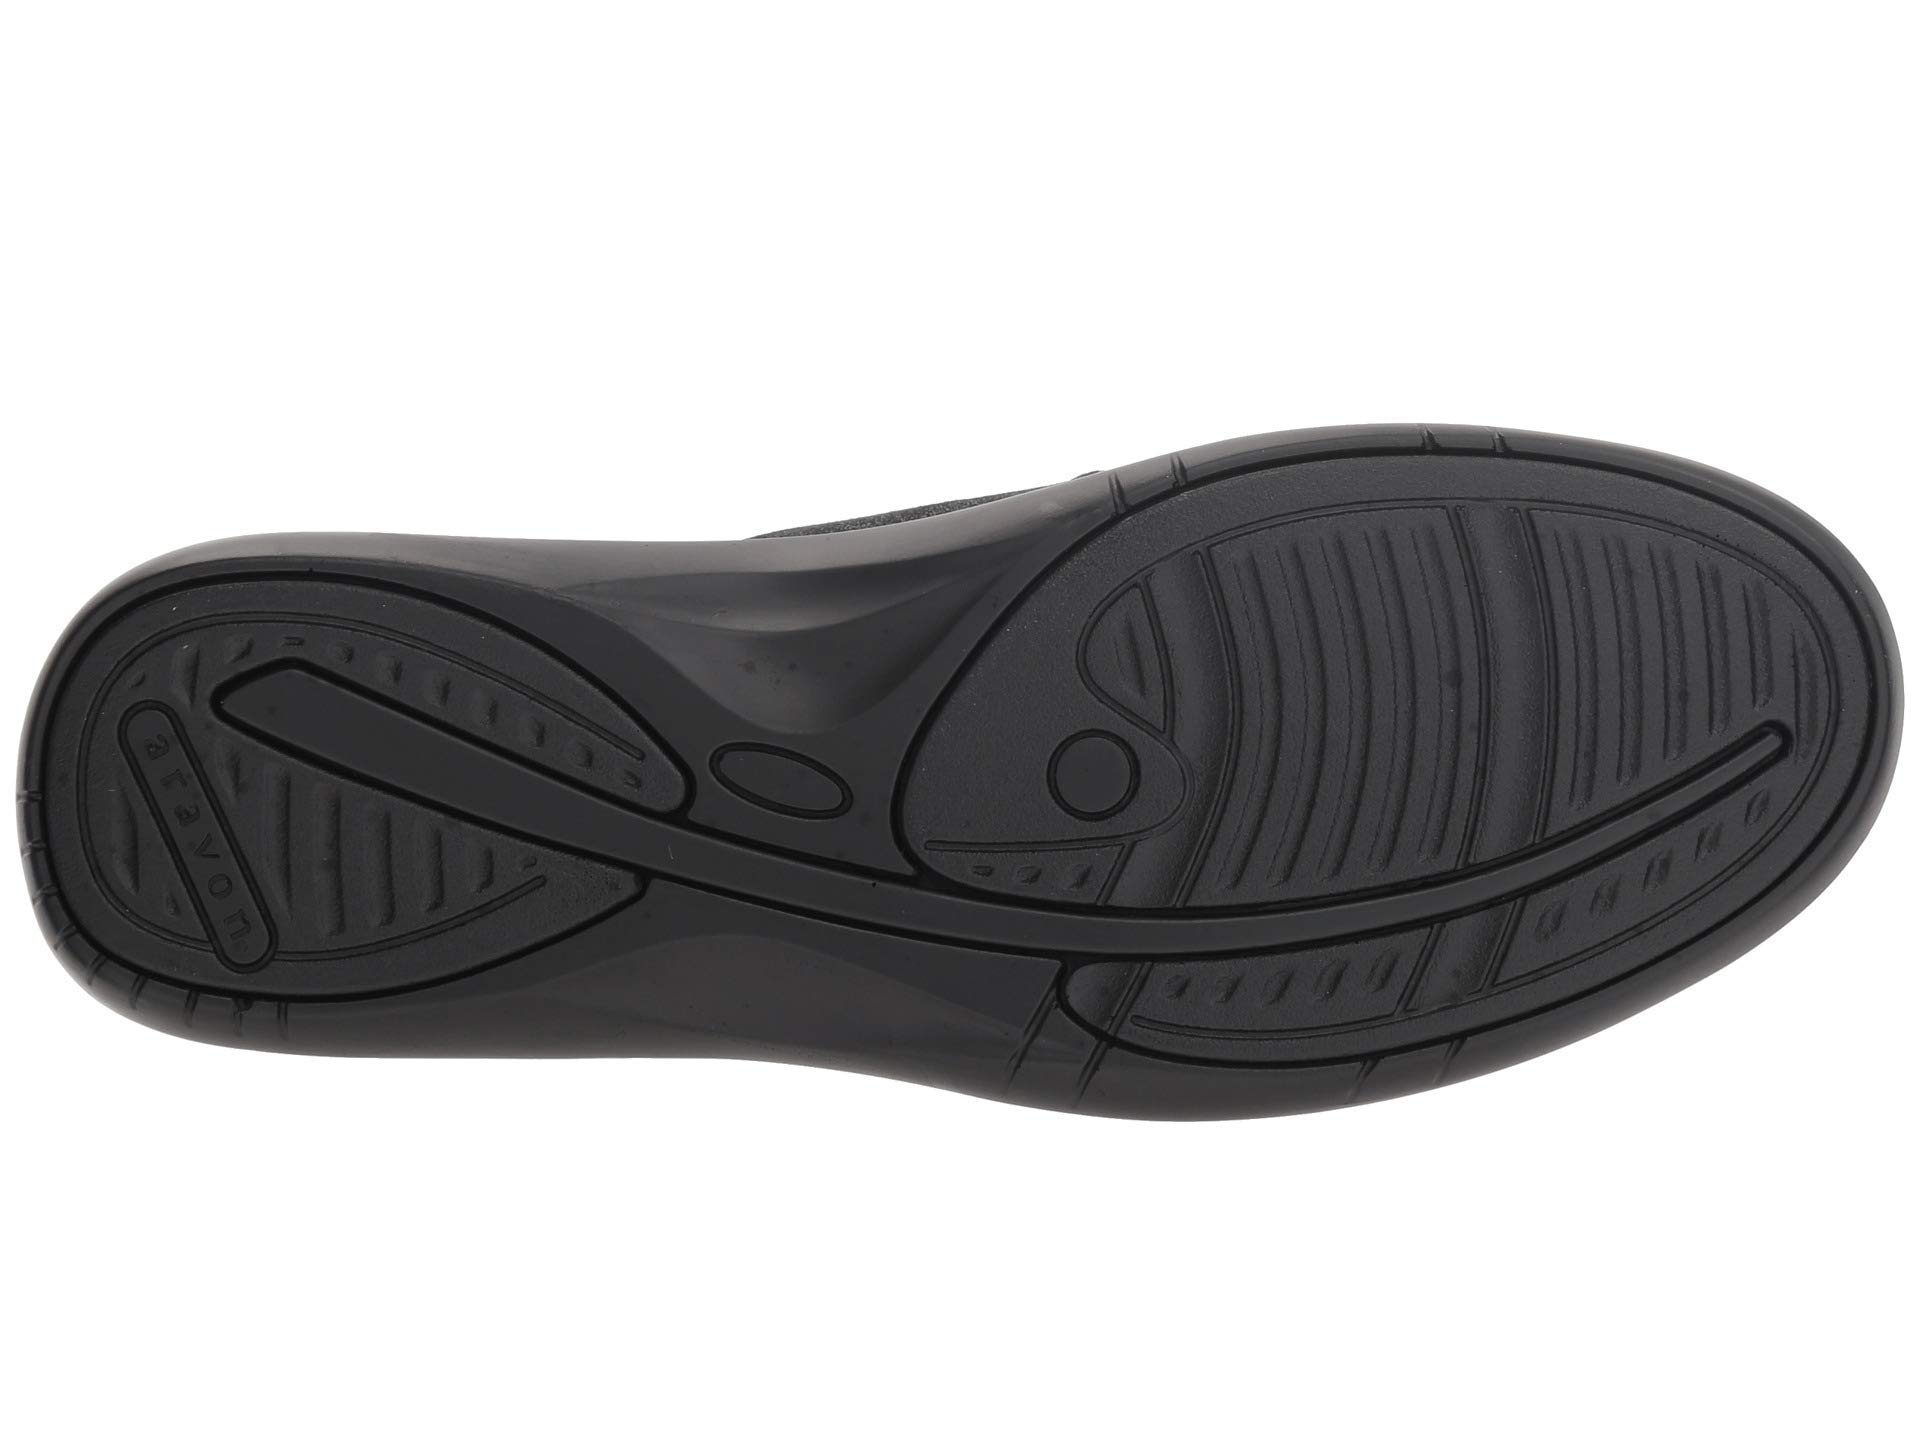circle: (1036, 715, 1154, 833)
line: (1185, 517, 1503, 915), (1509, 519, 1810, 849)
